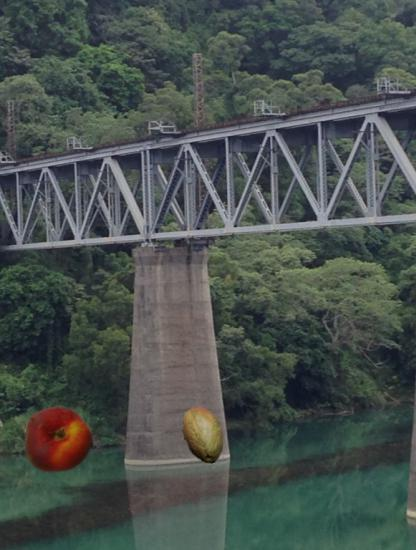Nectarine: (24, 406, 93, 475)
Papaya: (173, 406, 232, 465)
